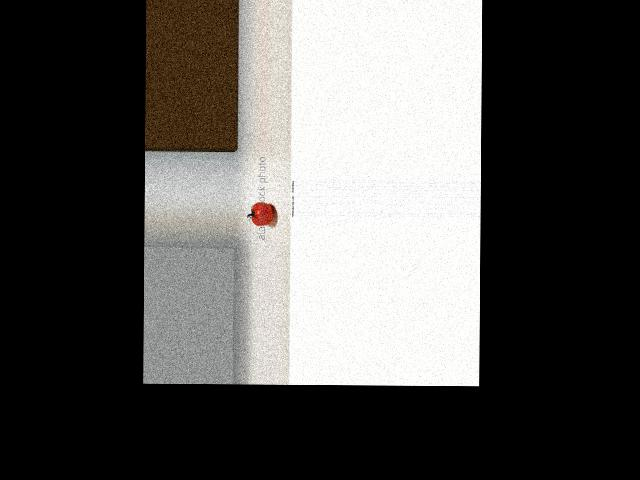tomato: (251, 201, 273, 226)
